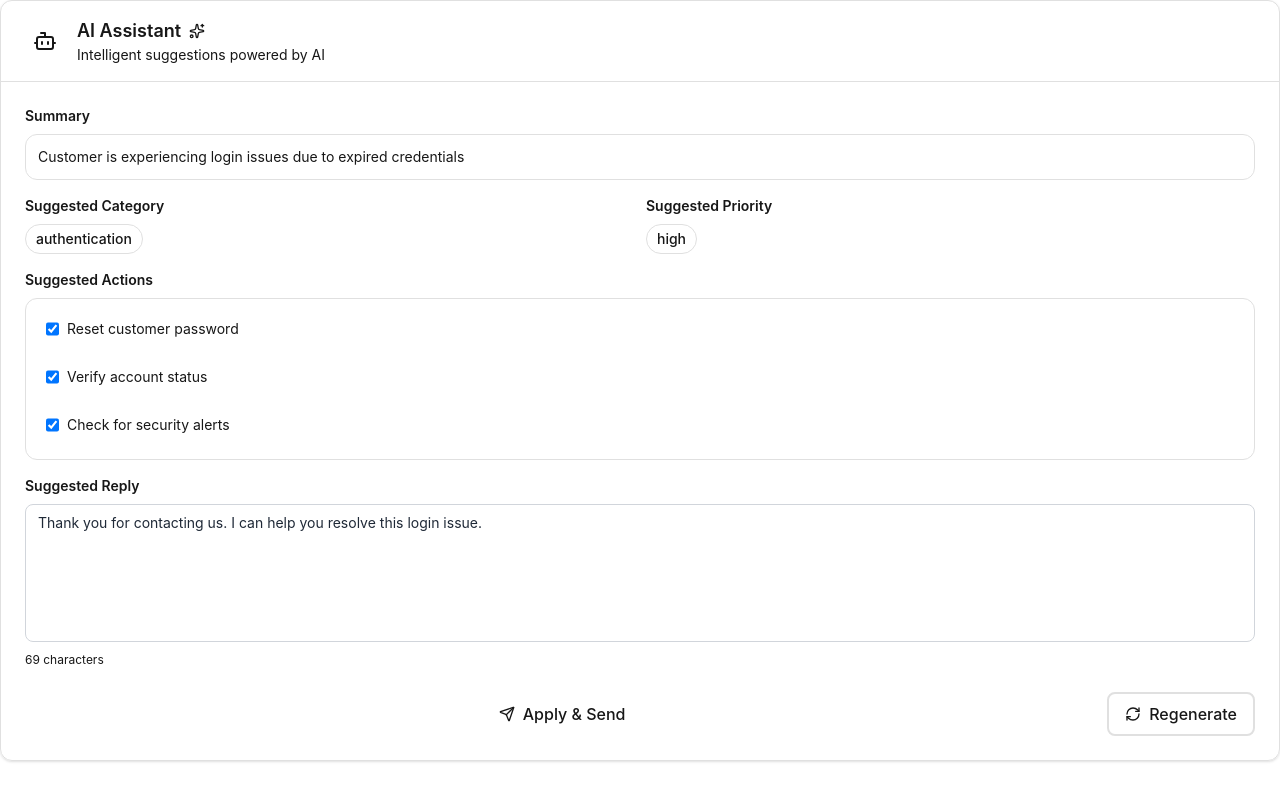
Test case: AISuggestionPanel › disables "Apply & Send" button when reply is empty
Clear the text box showing "Thank you for contacting us. I can help you resolve this login issue." at (640, 573), box 25,504 -> 1255,642
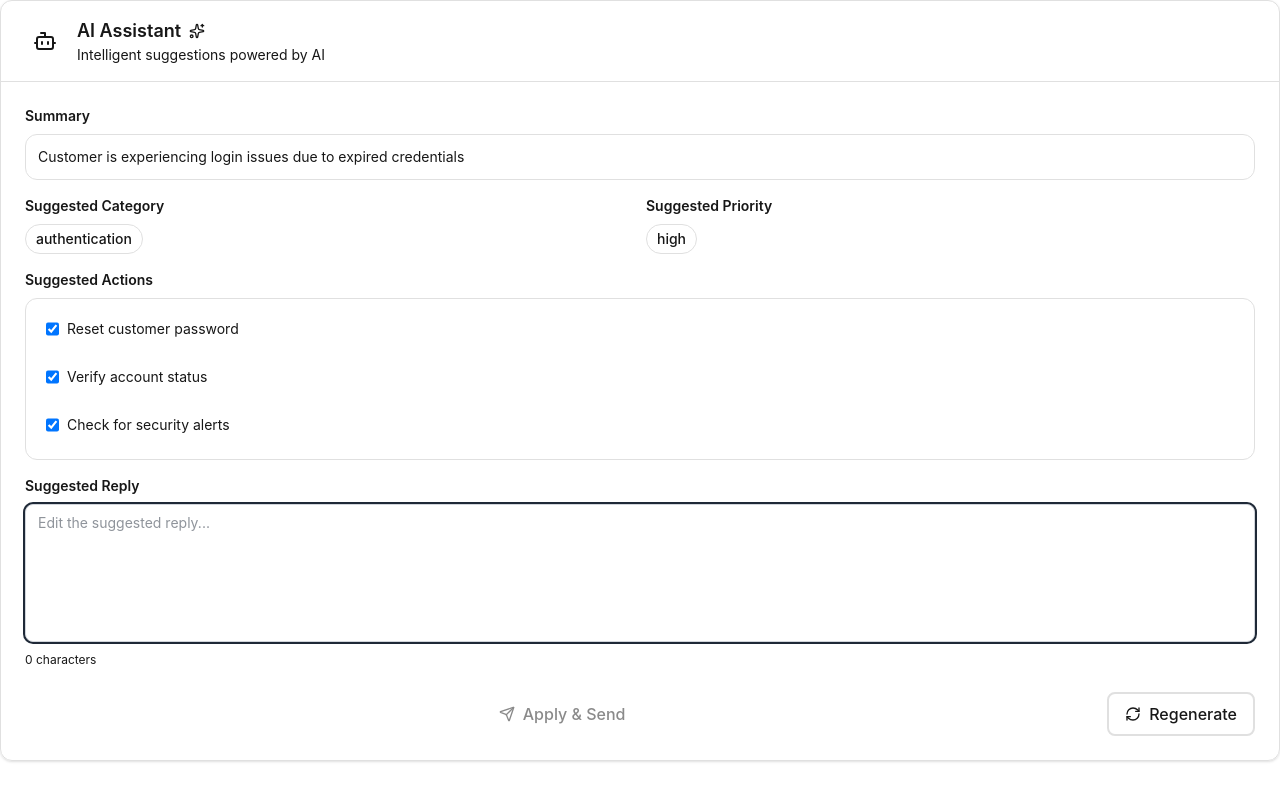
Expected: the button "Apply & Send" is disabled, 25,692 -> 1099,736
